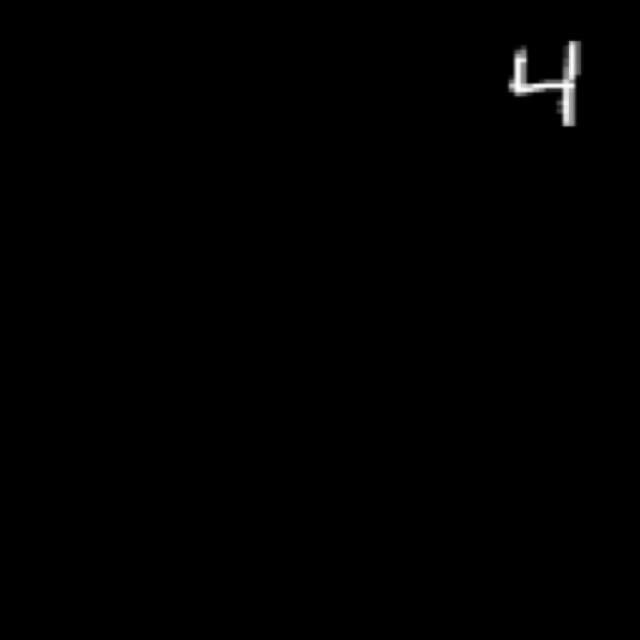four -4-: (488, 21, 602, 135)
